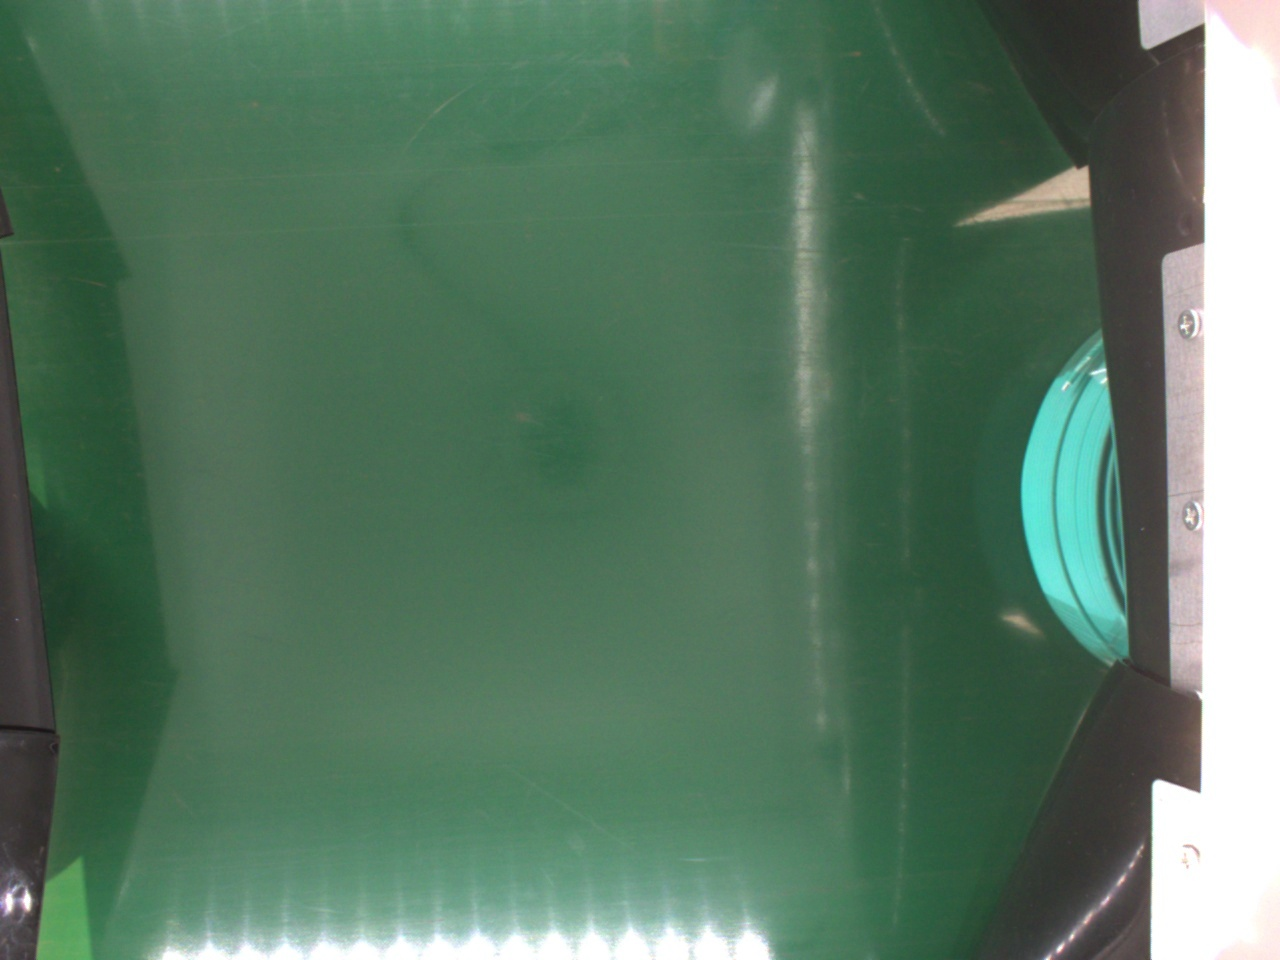green: (1018, 330, 1131, 679)
